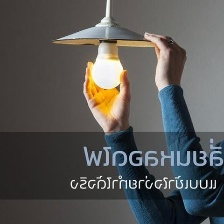light_bulb: (88, 32, 126, 94)
